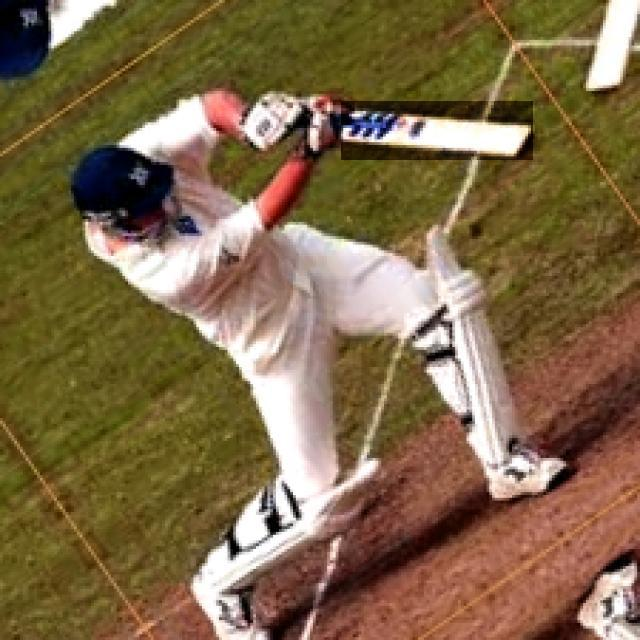bat: (334, 98, 535, 163)
